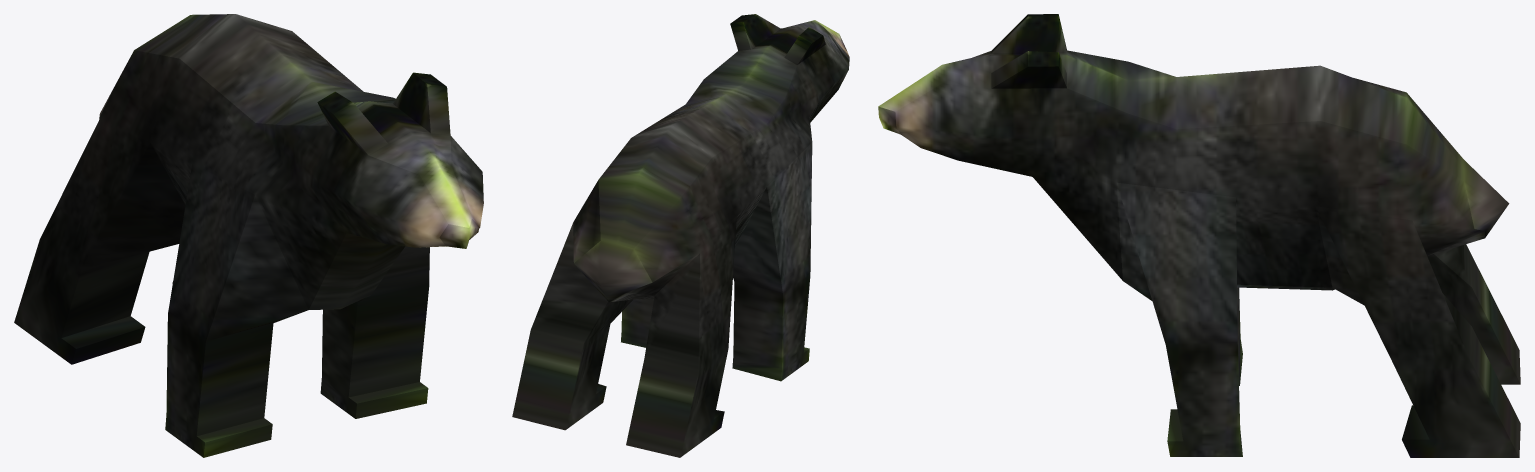
The model's file is BlackBear.fbx.
3 views of the same model, side by side, from view 1: azimuth 30°, elevation 25°; view 2: azimuth 150°, elevation 25°; view 3: azimuth 270°, elevation 25° (orthographic). The views are drawn at different scales.
Visible parts, largest first — view 1: pCube1; view 2: pCube1; view 3: pCube1.
Part boxes in pixels (bbox=[...]): pCube1: bbox=[14, 14, 483, 457]; pCube1: bbox=[512, 14, 849, 457]; pCube1: bbox=[878, 14, 1520, 457].
Bounding box in the file's own units: 64.74 × 104 × 163.
